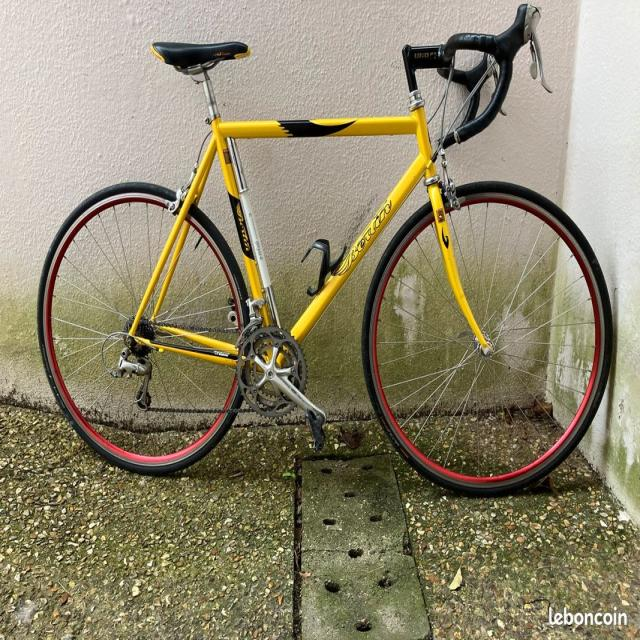Bike: (37, 4, 612, 495)
